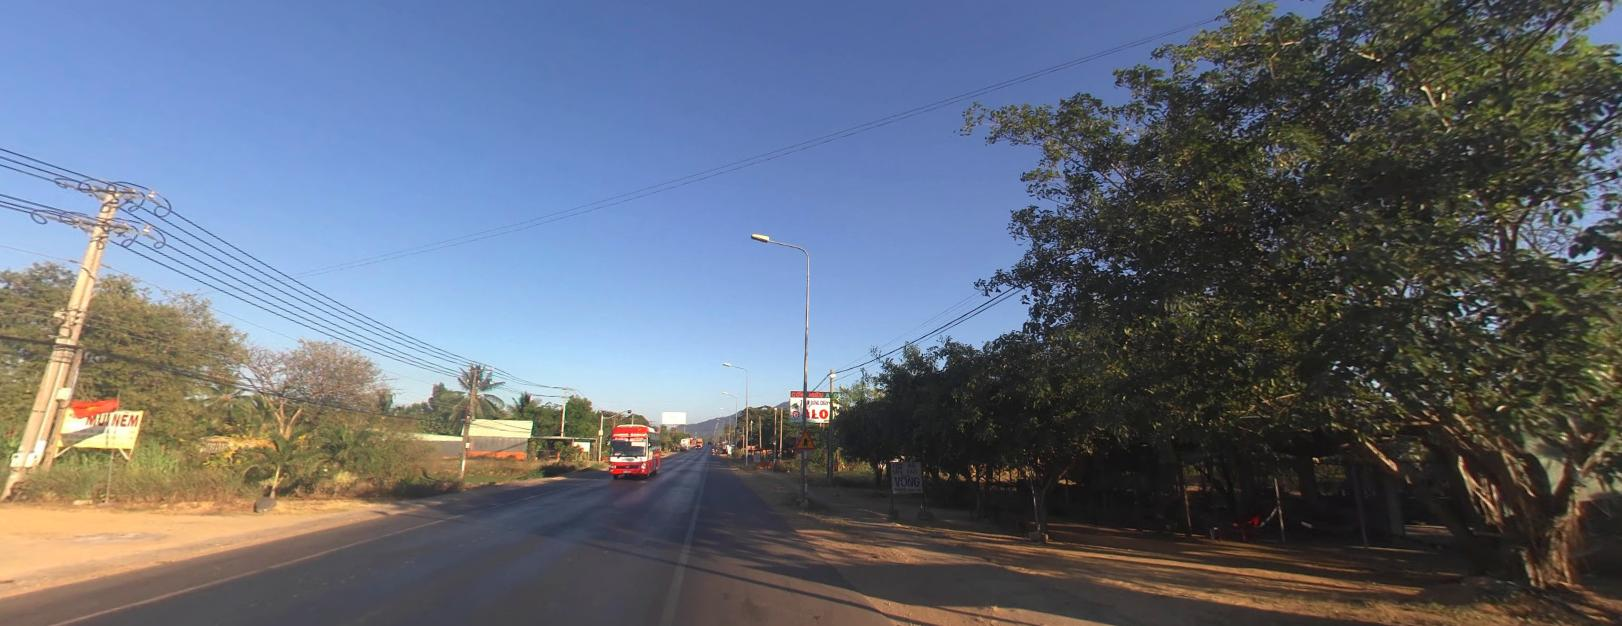Nguy hiem: (795, 429, 815, 448)
